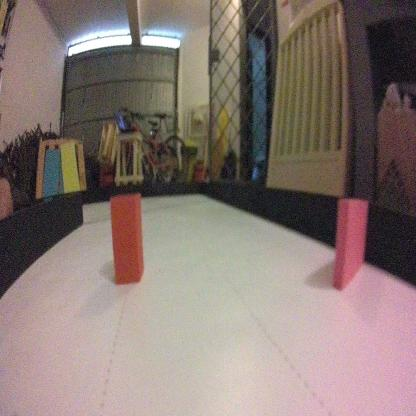magenta: (333, 194, 367, 292)
red: (110, 193, 146, 283)
